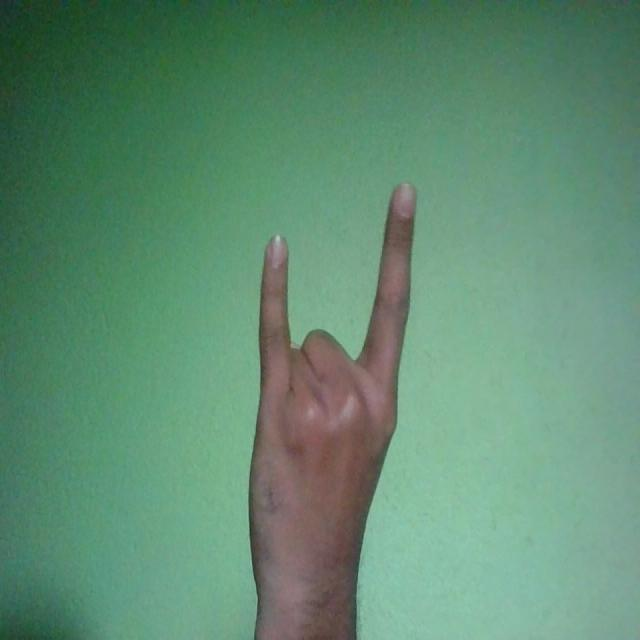open Plam: (250, 182, 419, 621)
